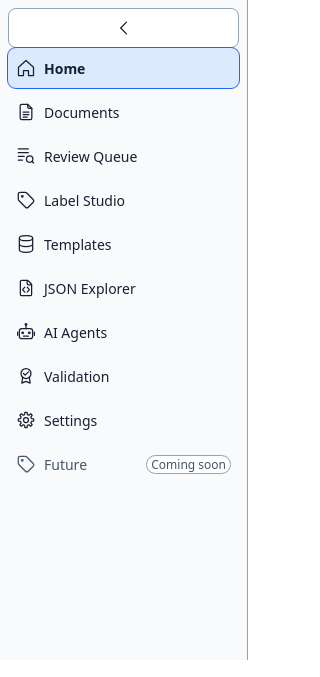
Test case: nav links every Studio page, hides zero review badge and keeps the disabled-item contract
The width and height of the screenshot is (320, 677).
Check: the text with class "ds-badge" reads "Coming soon", box x1=151 y1=456 x2=226 y2=472
Click the button named "Collapse sidebar" at coordinates (124, 28), box x1=8 y1=8 x2=239 y2=48
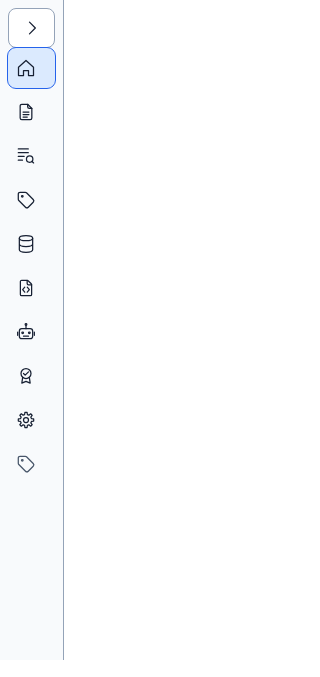
Check: the text with class "ds-badge" is gone
Focus the link named "Future" at coordinates (32, 464), box x1=8 y1=444 x2=55 y2=484
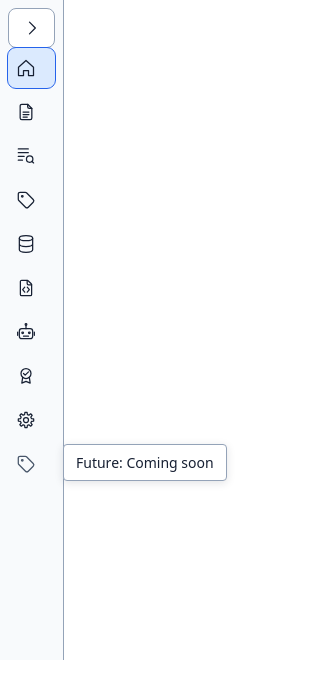
Check: the tooltip "Future: Coming soon" is shown, box x1=63 y1=444 x2=227 y2=481
